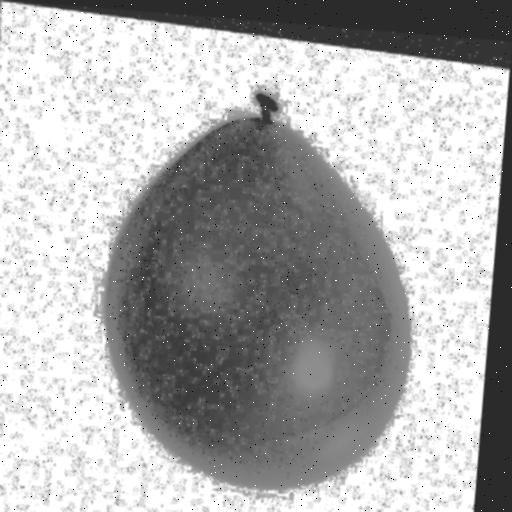balloon: (76, 75, 428, 499)
